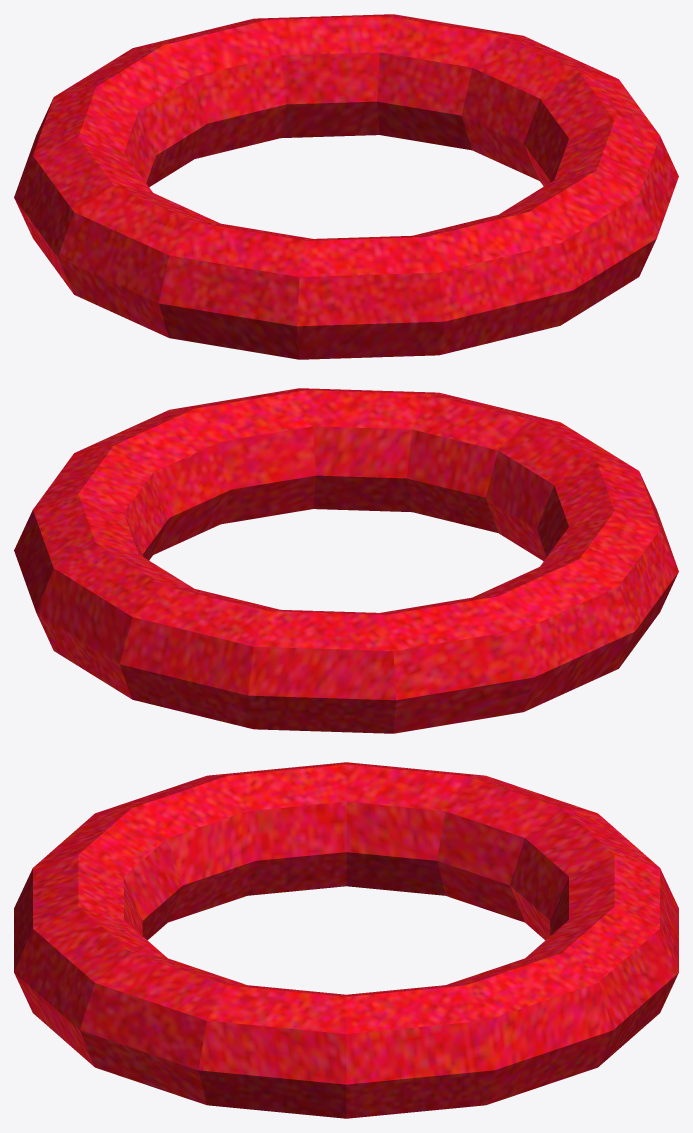
File: magic_torus.obj
3 views of the same model, one above another, from view 1: azimuth 30°, elevation 25°; view 2: azimuth 150°, elevation 25°; view 3: azimuth 270°, elevation 25° (orthographic). The views are drawn at different scales.
Parts seen in each view (by area): view 1: Circle; view 2: Circle; view 3: Circle.
Part boxes in pixels (x1,y1,x2,y2): Circle: (14,14,678,359); Circle: (14,388,678,733); Circle: (14,762,678,1118).
Size of the model in its own units: 3.1 by 0.6 by 3.02.
